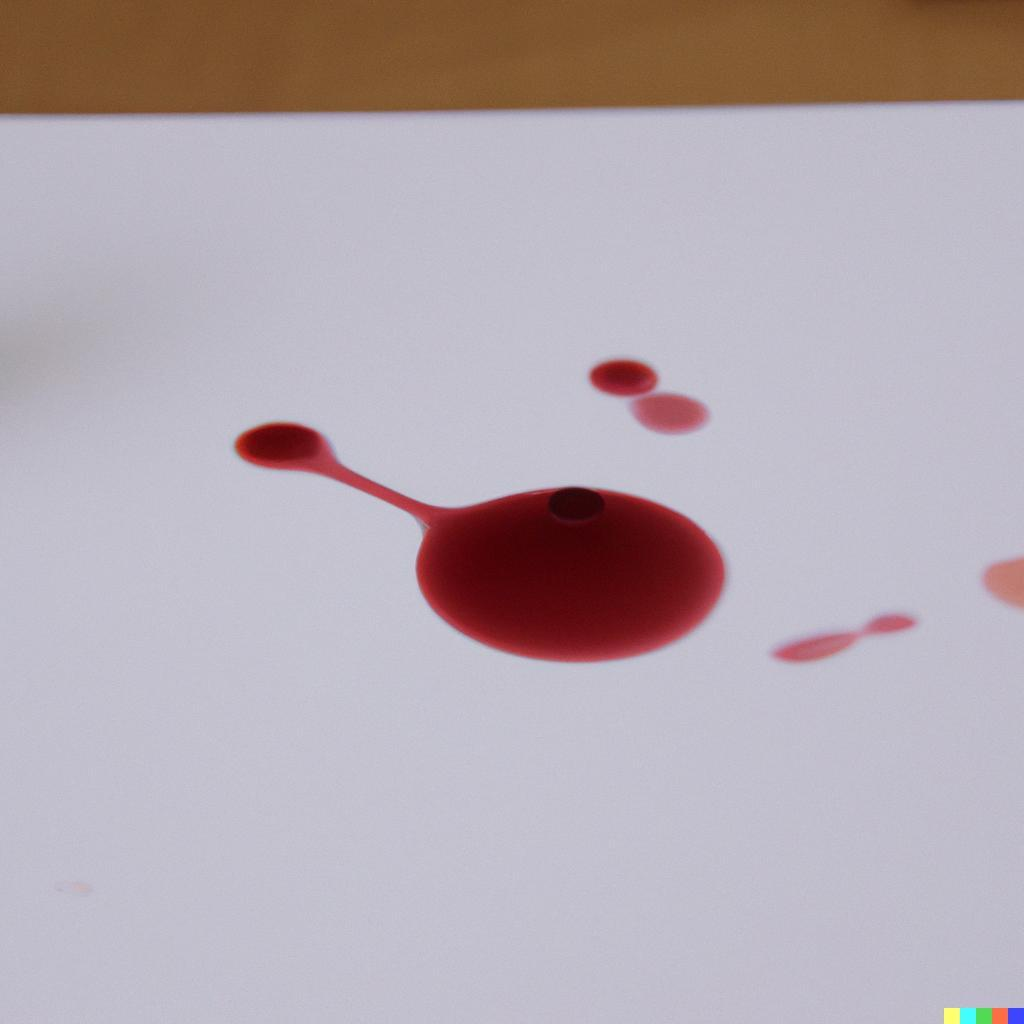Fire: (235, 422, 724, 663), (589, 359, 710, 435)
